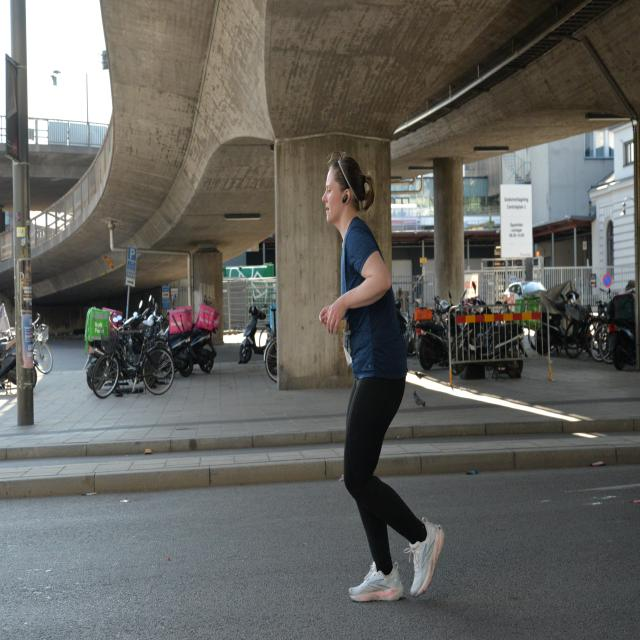runner-detect: (296, 109, 457, 613)
